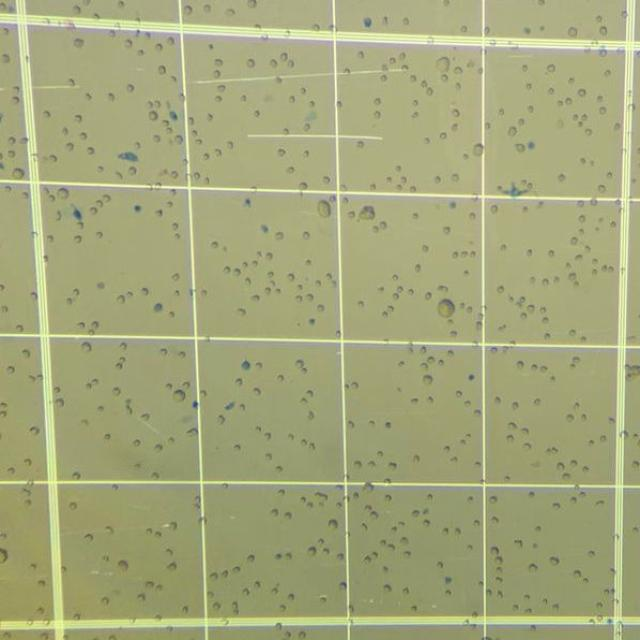Cell: (437, 298, 455, 318), (358, 205, 376, 222), (316, 200, 332, 219), (436, 56, 451, 72), (125, 397, 134, 416), (172, 389, 185, 402), (343, 603, 357, 615), (472, 143, 484, 156), (66, 20, 78, 33), (29, 152, 42, 164), (628, 365, 640, 378), (223, 401, 237, 412), (114, 357, 126, 369), (12, 168, 24, 180), (117, 560, 129, 572), (325, 23, 338, 34), (362, 16, 373, 29), (314, 492, 328, 502), (159, 347, 173, 357), (20, 487, 34, 497), (308, 24, 322, 34), (327, 518, 338, 530), (56, 188, 68, 199), (114, 169, 125, 181), (26, 476, 37, 488), (110, 590, 122, 601), (477, 634, 498, 640), (422, 374, 433, 385), (240, 360, 251, 371), (64, 142, 75, 153), (401, 16, 412, 27), (367, 419, 378, 430), (489, 515, 500, 526), (514, 142, 526, 152), (362, 482, 374, 492), (0, 548, 8, 563), (70, 6, 82, 16), (107, 91, 117, 103), (154, 206, 164, 218), (80, 418, 92, 428), (380, 15, 390, 27), (398, 536, 410, 546), (344, 618, 356, 628), (620, 8, 630, 20), (80, 0, 93, 9), (408, 340, 416, 354), (81, 342, 92, 352), (73, 38, 84, 48), (507, 126, 517, 137), (148, 110, 158, 121), (92, 12, 103, 22), (1, 53, 11, 64), (24, 52, 34, 63), (77, 132, 88, 142), (74, 113, 85, 123), (135, 16, 145, 27), (163, 380, 174, 390), (34, 606, 44, 617), (25, 617, 36, 627), (1, 630, 12, 640), (286, 592, 296, 603), (208, 571, 219, 581), (398, 51, 408, 62), (608, 566, 618, 577), (495, 575, 506, 585), (525, 304, 536, 314), (186, 428, 198, 437), (60, 126, 69, 138), (5, 366, 17, 375), (594, 499, 606, 508), (520, 427, 532, 436), (441, 0, 454, 8), (42, 110, 52, 120), (54, 398, 64, 408), (29, 426, 39, 436), (168, 521, 178, 531), (568, 27, 578, 37), (307, 546, 317, 556), (153, 302, 163, 312), (158, 168, 168, 178), (170, 170, 180, 180), (88, 206, 98, 216), (119, 342, 129, 352), (150, 471, 160, 481), (110, 482, 120, 492), (164, 546, 174, 556), (6, 466, 16, 476), (23, 498, 33, 508), (220, 617, 230, 627), (264, 452, 274, 462), (238, 402, 248, 412), (305, 293, 315, 303), (286, 272, 296, 282), (323, 176, 333, 186), (213, 148, 223, 158), (299, 85, 309, 95), (426, 36, 436, 46), (356, 51, 366, 61), (478, 47, 488, 57), (350, 381, 360, 391), (346, 420, 356, 430), (363, 555, 373, 565), (421, 518, 431, 528), (470, 610, 480, 620), (494, 556, 504, 566), (598, 45, 607, 56), (48, 154, 59, 163), (178, 92, 187, 103), (41, 254, 50, 265), (89, 320, 100, 329), (166, 436, 177, 445), (133, 462, 144, 471), (193, 504, 202, 515), (145, 580, 156, 589), (341, 531, 352, 540), (265, 270, 276, 279), (287, 60, 298, 69), (549, 602, 560, 611), (482, 121, 493, 130), (616, 47, 627, 56), (18, 137, 30, 145), (14, 324, 26, 332), (177, 350, 189, 358), (361, 522, 369, 534), (470, 621, 482, 629), (55, 209, 62, 222), (102, 193, 111, 203), (214, 58, 223, 68), (22, 348, 31, 358), (212, 69, 221, 79), (112, 386, 121, 396), (252, 388, 262, 397), (246, 58, 255, 68), (225, 8, 235, 17), (174, 135, 183, 145), (305, 389, 314, 399), (140, 413, 150, 422), (507, 422, 517, 431), (599, 26, 608, 36), (166, 562, 176, 571), (137, 592, 146, 602), (549, 556, 559, 565), (260, 224, 269, 234), (7, 136, 16, 146), (85, 92, 94, 102), (108, 30, 117, 40), (124, 38, 133, 48), (144, 31, 153, 41), (154, 42, 163, 52), (136, 48, 146, 57), (95, 164, 105, 173), (154, 180, 163, 190), (41, 186, 51, 195), (21, 191, 30, 201), (76, 221, 86, 230), (29, 291, 39, 300), (72, 287, 81, 297), (172, 288, 181, 298), (96, 404, 105, 414), (91, 377, 100, 387), (27, 374, 37, 383), (192, 495, 202, 504), (128, 616, 137, 626), (154, 584, 164, 593), (240, 587, 250, 596), (336, 552, 345, 562), (342, 474, 351, 484), (274, 465, 284, 474), (264, 432, 274, 441), (288, 433, 298, 442), (308, 442, 317, 452), (255, 361, 265, 370), (295, 360, 304, 370), (305, 258, 314, 268), (205, 112, 214, 122), (274, 76, 283, 86), (269, 59, 279, 68), (282, 30, 291, 40), (460, 25, 470, 34), (482, 26, 491, 36), (378, 74, 388, 83), (410, 111, 419, 121), (419, 345, 429, 354), (419, 362, 428, 372), (476, 313, 486, 322), (473, 408, 482, 418), (370, 511, 380, 520), (436, 560, 446, 569), (461, 618, 470, 628), (524, 607, 534, 616), (484, 588, 493, 598), (594, 601, 604, 610), (562, 472, 572, 481), (630, 460, 640, 469), (580, 413, 589, 423), (573, 402, 582, 412), (514, 301, 524, 310), (540, 316, 550, 325), (576, 199, 585, 209), (564, 96, 574, 105), (626, 103, 636, 112), (617, 265, 626, 275), (437, 285, 448, 293), (134, 28, 142, 39), (30, 231, 41, 239), (38, 632, 49, 640), (181, 604, 189, 615), (232, 268, 243, 276), (203, 175, 211, 186), (193, 171, 201, 182), (347, 209, 355, 220), (552, 446, 560, 457), (513, 42, 521, 53), (165, 99, 172, 111), (600, 434, 607, 446), (498, 107, 505, 119), (217, 84, 226, 93), (270, 508, 279, 517), (154, 443, 163, 452), (353, 460, 362, 469), (451, 109, 460, 118), (556, 461, 565, 470), (116, 295, 125, 304), (565, 413, 574, 422), (128, 167, 137, 176), (378, 221, 387, 230), (198, 516, 207, 525), (620, 430, 629, 439), (490, 546, 499, 555), (166, 36, 175, 45), (184, 172, 193, 181), (76, 321, 85, 330), (42, 618, 51, 627), (212, 602, 221, 611), (207, 591, 216, 600), (273, 552, 282, 561), (249, 185, 258, 194), (225, 141, 234, 150), (202, 152, 211, 161), (288, 95, 297, 104), (253, 23, 262, 32), (393, 164, 402, 173), (467, 212, 476, 221), (392, 292, 401, 301), (371, 551, 380, 560), (378, 538, 387, 547), (402, 586, 411, 595), (522, 593, 531, 602), (587, 550, 596, 559), (587, 439, 596, 448), (590, 38, 599, 47), (603, 69, 612, 78), (547, 86, 556, 95), (158, 65, 166, 75), (184, 5, 192, 15), (302, 122, 310, 132), (280, 52, 288, 62), (274, 232, 284, 240), (556, 119, 564, 129), (568, 272, 576, 282), (247, 0, 257, 8), (104, 526, 114, 534), (528, 563, 538, 571), (42, 18, 52, 26), (11, 86, 21, 94), (11, 96, 21, 104), (8, 149, 16, 159), (56, 20, 64, 30), (113, 20, 121, 30), (170, 75, 180, 83), (162, 120, 172, 128), (163, 126, 173, 134), (146, 182, 154, 192), (0, 305, 10, 313), (173, 231, 181, 241), (85, 382, 93, 392), (36, 374, 46, 382), (37, 579, 47, 587), (0, 531, 8, 541), (230, 601, 240, 609), (278, 603, 288, 611), (316, 538, 326, 546), (308, 410, 316, 420), (300, 396, 308, 406), (334, 330, 342, 340), (296, 283, 306, 291), (268, 278, 278, 286), (222, 266, 232, 274), (250, 260, 260, 268), (203, 3, 211, 13), (451, 123, 459, 133), (434, 175, 442, 185), (471, 193, 479, 203), (469, 250, 479, 258), (386, 304, 394, 314), (396, 360, 406, 368), (480, 304, 488, 314), (476, 322, 484, 332), (426, 396, 436, 404), (376, 450, 384, 460), (426, 492, 436, 500), (496, 590, 504, 600), (540, 596, 548, 606), (615, 629, 625, 637), (569, 460, 579, 468), (581, 466, 591, 474), (494, 395, 502, 405), (578, 214, 586, 224), (624, 90, 634, 98), (614, 122, 622, 132), (572, 356, 582, 364), (623, 363, 633, 371), (0, 1, 7, 12), (4, 185, 15, 192), (495, 567, 506, 574), (527, 104, 534, 115), (126, 84, 134, 93), (67, 78, 76, 86), (86, 147, 95, 155), (171, 222, 179, 231), (516, 360, 524, 369), (511, 401, 519, 410), (140, 287, 148, 296), (74, 235, 82, 244), (356, 140, 365, 148), (599, 106, 607, 115), (132, 439, 141, 447), (302, 231, 310, 240), (23, 458, 32, 466), (235, 378, 243, 387), (598, 184, 606, 193), (546, 64, 555, 72), (552, 502, 561, 510), (277, 148, 285, 157), (84, 533, 93, 541), (72, 471, 80, 480), (237, 308, 246, 316), (578, 88, 586, 97), (251, 294, 260, 302), (506, 433, 514, 442), (388, 461, 396, 470), (383, 584, 392, 592), (514, 539, 523, 547), (573, 570, 582, 578), (182, 382, 190, 391), (244, 198, 252, 207), (1, 27, 10, 35), (0, 113, 6, 125), (154, 133, 162, 142), (134, 141, 142, 150), (169, 188, 178, 196), (95, 199, 104, 207), (48, 194, 56, 203), (46, 234, 54, 243), (66, 297, 74, 306), (86, 329, 95, 337), (165, 200, 174, 208), (168, 310, 176, 319), (52, 386, 61, 394), (102, 555, 111, 563), (154, 614, 162, 623), (283, 631, 292, 639), (232, 609, 241, 617), (254, 580, 262, 589), (322, 547, 331, 555), (222, 569, 230, 578), (277, 488, 286, 496), (199, 389, 208, 397), (294, 294, 303, 302), (328, 194, 336, 203), (214, 94, 222, 103), (240, 94, 248, 103), (253, 109, 261, 118), (307, 100, 316, 108), (207, 42, 215, 51), (343, 68, 352, 76), (426, 87, 434, 96), (440, 74, 449, 82), (467, 59, 475, 68), (373, 98, 382, 106), (439, 132, 448, 140), (409, 186, 418, 194), (385, 174, 393, 183), (394, 182, 403, 190), (369, 182, 377, 191), (460, 251, 469, 259), (377, 285, 386, 293), (380, 310, 389, 318), (436, 358, 445, 366), (446, 349, 454, 358), (454, 390, 463, 398), (464, 399, 472, 408), (449, 454, 458, 462), (368, 460, 377, 468), (383, 478, 392, 486), (363, 504, 372, 512), (472, 519, 481, 527), (466, 495, 474, 504), (530, 623, 538, 632), (616, 619, 624, 628), (582, 577, 591, 585), (578, 491, 587, 499), (504, 475, 513, 483), (540, 365, 548, 374), (489, 346, 498, 354), (541, 278, 549, 287), (536, 201, 544, 210), (521, 64, 529, 73), (583, 45, 591, 54), (335, 101, 343, 110), (218, 414, 225, 424), (168, 138, 175, 148), (59, 566, 69, 573), (72, 613, 82, 620), (232, 444, 242, 451), (286, 166, 296, 173), (421, 79, 428, 89), (453, 67, 463, 74), (424, 291, 431, 301), (382, 566, 392, 573), (422, 506, 429, 516), (606, 618, 613, 628), (601, 263, 608, 273), (545, 445, 551, 456), (525, 248, 533, 256), (558, 174, 566, 182), (373, 111, 381, 119), (69, 502, 77, 510), (172, 273, 180, 281), (276, 374, 284, 382), (533, 398, 541, 406), (490, 205, 498, 213), (443, 226, 451, 234), (570, 237, 578, 245), (210, 241, 218, 249), (384, 421, 392, 429), (490, 496, 498, 504), (284, 512, 292, 520), (584, 128, 592, 136), (299, 182, 307, 190), (523, 442, 531, 450), (264, 252, 272, 260), (467, 373, 475, 381), (403, 550, 411, 558), (101, 597, 109, 605), (284, 552, 292, 560), (308, 318, 316, 326), (449, 201, 457, 209), (523, 26, 531, 34), (189, 288, 197, 296), (298, 630, 306, 638), (444, 576, 452, 584), (154, 100, 162, 108), (0, 410, 8, 418), (144, 527, 152, 535), (30, 562, 38, 570), (271, 588, 279, 596), (339, 582, 347, 590), (203, 335, 211, 343), (264, 286, 272, 294), (200, 289, 208, 297), (302, 150, 310, 158), (489, 39, 497, 47), (454, 82, 462, 90), (411, 99, 419, 107), (422, 136, 430, 144), (400, 176, 408, 184), (340, 184, 348, 192), (396, 285, 404, 293), (407, 288, 415, 296), (426, 356, 434, 364), (458, 302, 466, 310), (395, 386, 403, 394), (474, 460, 482, 468), (412, 509, 420, 517), (454, 527, 462, 535), (588, 618, 596, 626), (602, 588, 610, 596), (631, 526, 639, 534), (533, 525, 541, 533), (574, 483, 582, 491), (608, 416, 616, 424), (548, 376, 556, 384), (539, 306, 547, 314), (583, 246, 591, 254), (578, 228, 586, 236), (517, 118, 525, 126), (566, 77, 574, 85), (596, 94, 604, 102), (580, 113, 588, 121), (572, 113, 580, 121), (609, 221, 617, 229), (591, 258, 599, 266), (543, 332, 551, 340), (568, 329, 576, 337), (624, 373, 632, 381), (422, 244, 429, 253), (413, 454, 420, 463), (247, 554, 254, 563), (96, 282, 105, 289), (118, 1, 127, 8), (146, 100, 153, 109), (0, 402, 9, 409), (155, 530, 162, 539), (166, 624, 173, 633), (282, 127, 289, 136), (188, 117, 195, 126), (381, 64, 388, 73), (388, 57, 397, 64), (402, 64, 409, 73), (410, 74, 417, 83), (342, 196, 349, 205), (372, 224, 379, 233), (466, 305, 473, 314), (386, 493, 393, 502), (387, 544, 396, 551), (512, 603, 519, 612), (527, 491, 536, 498), (502, 345, 509, 354), (565, 261, 572, 270), (548, 249, 555, 258), (633, 50, 640, 59), (107, 634, 117, 640), (333, 351, 343, 357), (478, 66, 484, 76), (448, 330, 458, 336), (530, 462, 540, 468), (497, 286, 504, 294), (412, 212, 419, 220), (104, 433, 111, 441), (452, 174, 459, 182), (590, 198, 598, 205), (317, 304, 324, 312), (414, 264, 421, 272), (261, 33, 268, 41), (134, 205, 142, 212), (126, 291, 134, 298), (275, 581, 282, 589), (300, 438, 307, 446), (275, 288, 282, 296), (244, 277, 252, 284), (256, 250, 263, 258), (461, 153, 469, 160), (463, 269, 470, 277), (392, 274, 399, 282), (471, 340, 478, 348), (343, 382, 350, 390), (443, 446, 451, 453), (391, 526, 398, 534), (398, 520, 406, 527), (479, 477, 487, 484), (466, 543, 474, 550), (411, 604, 418, 612), (597, 614, 604, 622), (612, 534, 619, 542), (532, 542, 539, 550), (570, 496, 577, 504), (500, 243, 507, 251), (529, 276, 536, 284), (553, 276, 560, 284), (573, 280, 580, 288), (522, 206, 530, 213), (506, 39, 514, 46), (595, 15, 603, 22), (556, 100, 564, 107), (580, 157, 587, 165), (606, 171, 614, 178), (618, 207, 626, 214), (627, 196, 634, 204), (608, 265, 615, 273), (591, 268, 599, 275), (232, 566, 241, 572), (254, 426, 263, 432), (298, 190, 304, 199), (452, 250, 458, 259), (444, 590, 453, 596), (613, 598, 622, 604), (574, 254, 583, 260), (537, 0, 546, 6), (0, 161, 5, 171), (411, 398, 418, 405), (320, 596, 327, 603), (275, 622, 282, 629), (182, 158, 189, 165), (300, 496, 307, 503), (315, 280, 322, 287), (241, 261, 248, 268), (460, 439, 467, 446), (509, 341, 516, 348), (496, 185, 503, 192), (633, 147, 640, 154), (96, 231, 102, 239), (358, 300, 364, 308), (61, 634, 69, 640), (306, 502, 314, 508), (317, 502, 325, 508), (335, 502, 343, 508), (300, 368, 308, 374), (326, 272, 332, 280), (332, 280, 338, 288), (222, 245, 228, 253), (195, 139, 203, 145), (446, 318, 454, 324), (441, 528, 449, 534), (518, 296, 526, 302), (527, 182, 533, 190), (526, 82, 532, 90), (538, 26, 546, 32), (620, 148, 626, 156), (631, 178, 639, 184), (580, 336, 586, 344), (570, 363, 576, 371), (0, 283, 5, 292), (222, 483, 229, 489), (343, 496, 350, 502), (353, 492, 359, 499), (191, 130, 197, 137), (382, 338, 389, 344), (478, 580, 484, 587), (611, 588, 618, 594), (632, 431, 638, 438), (531, 363, 537, 370), (520, 313, 527, 319), (507, 296, 514, 302), (521, 179, 528, 185), (577, 122, 584, 128), (589, 160, 595, 167), (635, 438, 640, 446), (0, 152, 4, 161), (304, 276, 310, 282), (465, 433, 471, 439), (497, 326, 503, 332), (598, 217, 604, 223), (615, 198, 621, 204), (296, 322, 301, 328), (594, 227, 600, 232), (502, 324, 507, 328), (356, 219, 360, 223)
